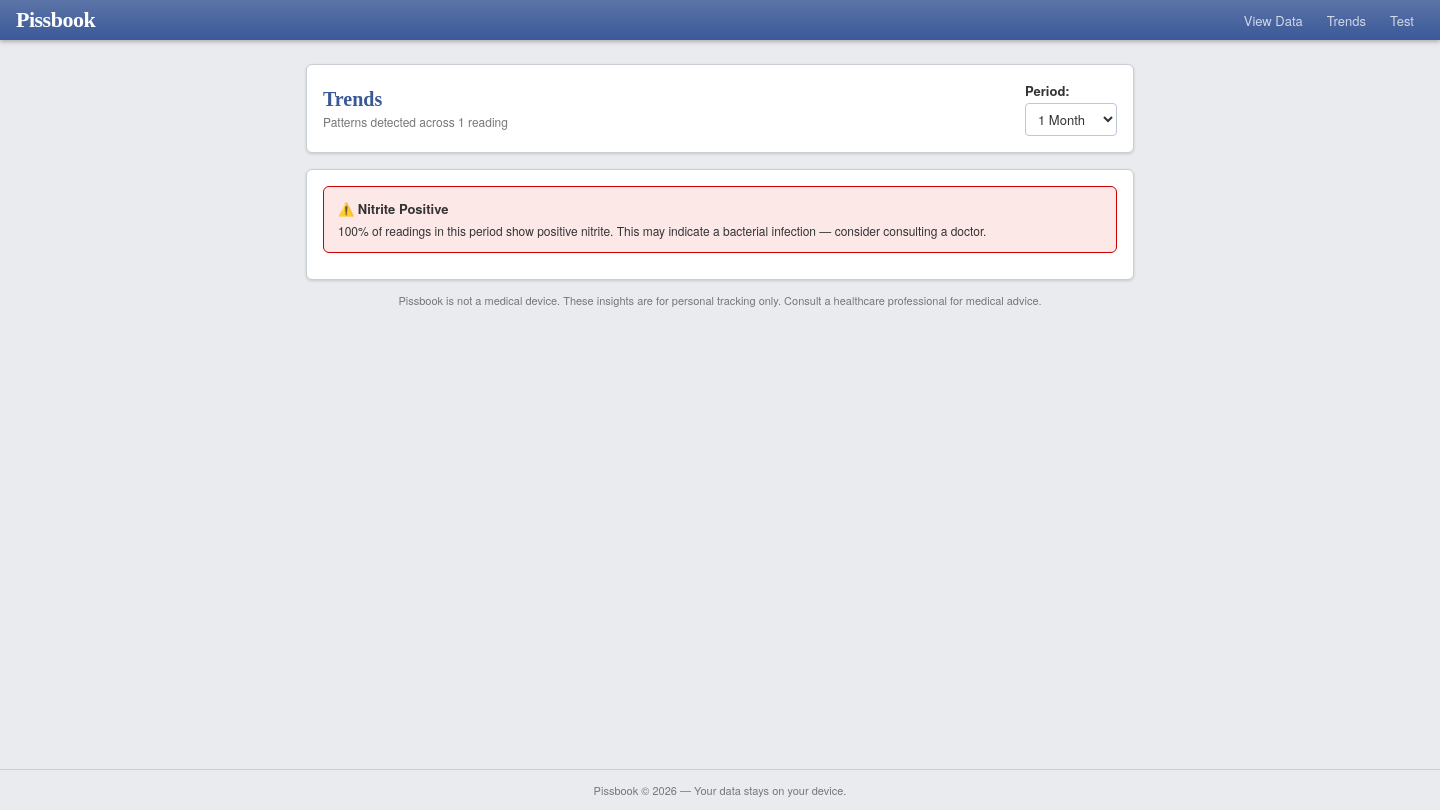
TrendsPage › updates trends when the period selector changes
This screenshot has width=1440, height=810.
In 1w view — should NOT see nitrite trend
Select "1 Week" in the dropdown with test id "period-selector": (1071, 120) [1025,103,1117,136]
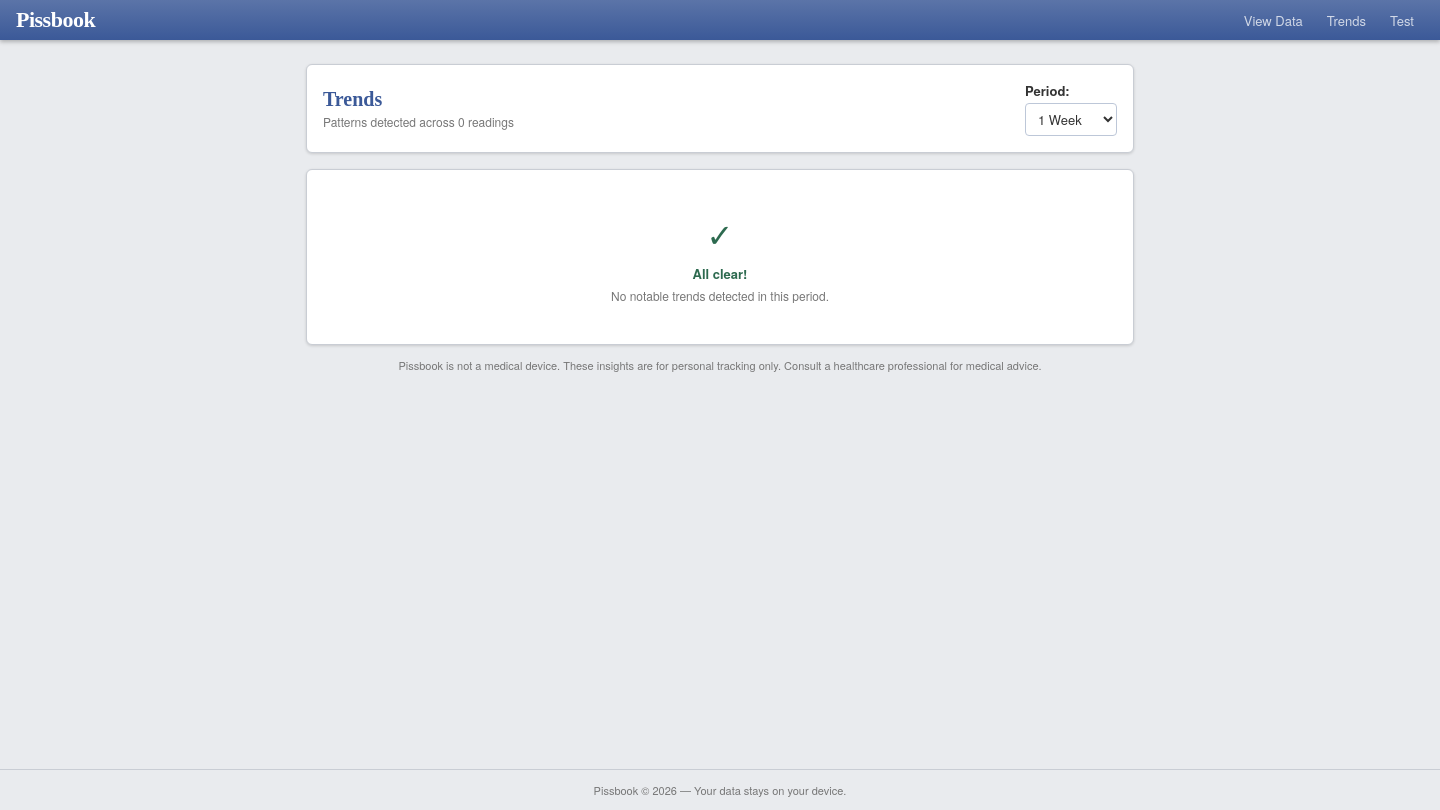
Expected: the element with test id "trend-nitrite" is gone
In 1m view — SHOULD see nitrite trend
Select "1 Month" in the dropdown with test id "period-selector": (1071, 120) [1025,103,1117,136]
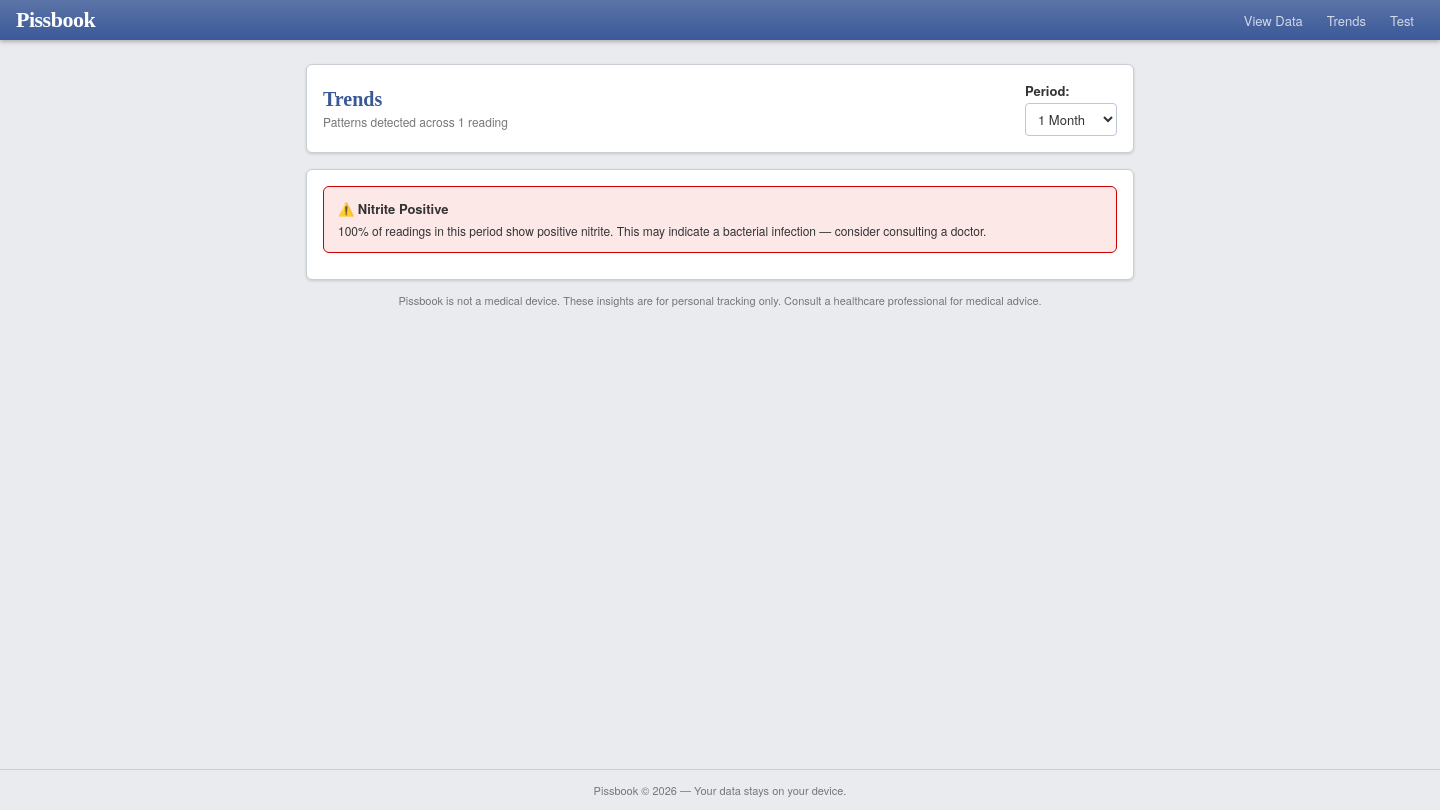
Expected: the element with test id "trend-nitrite" is shown, [323,186,1117,253]
